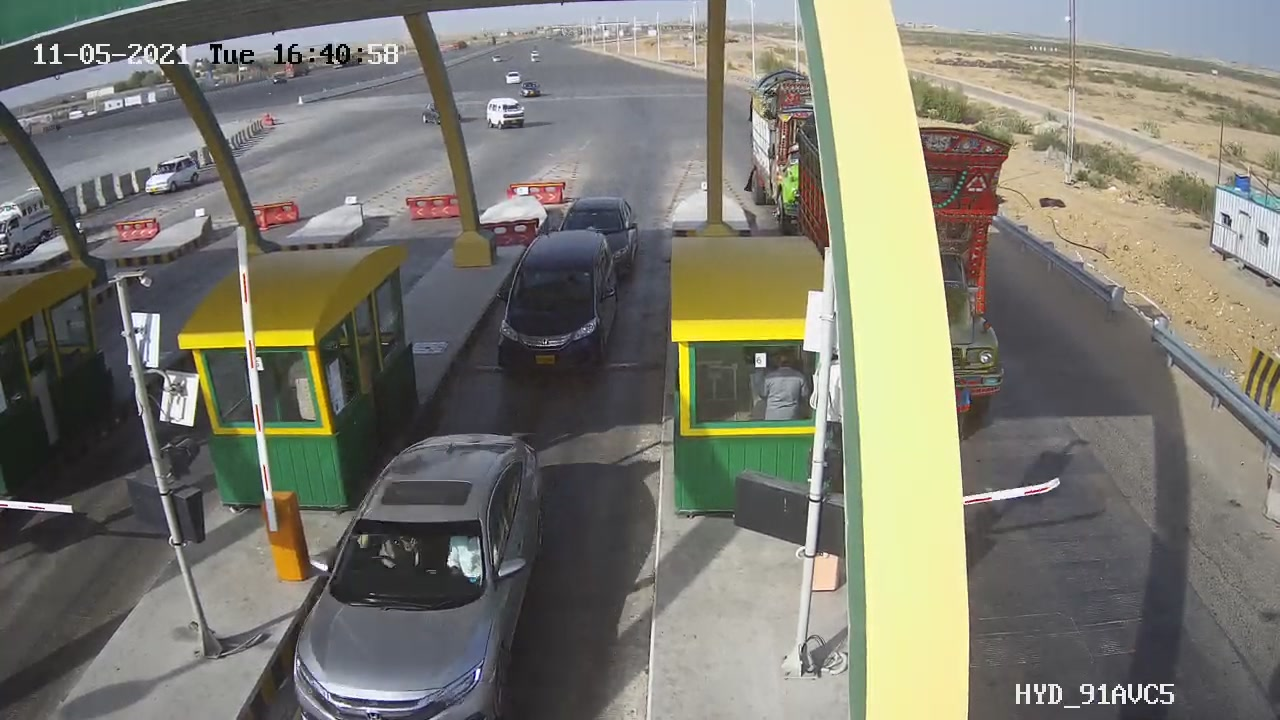F1: (483, 220, 635, 394)
